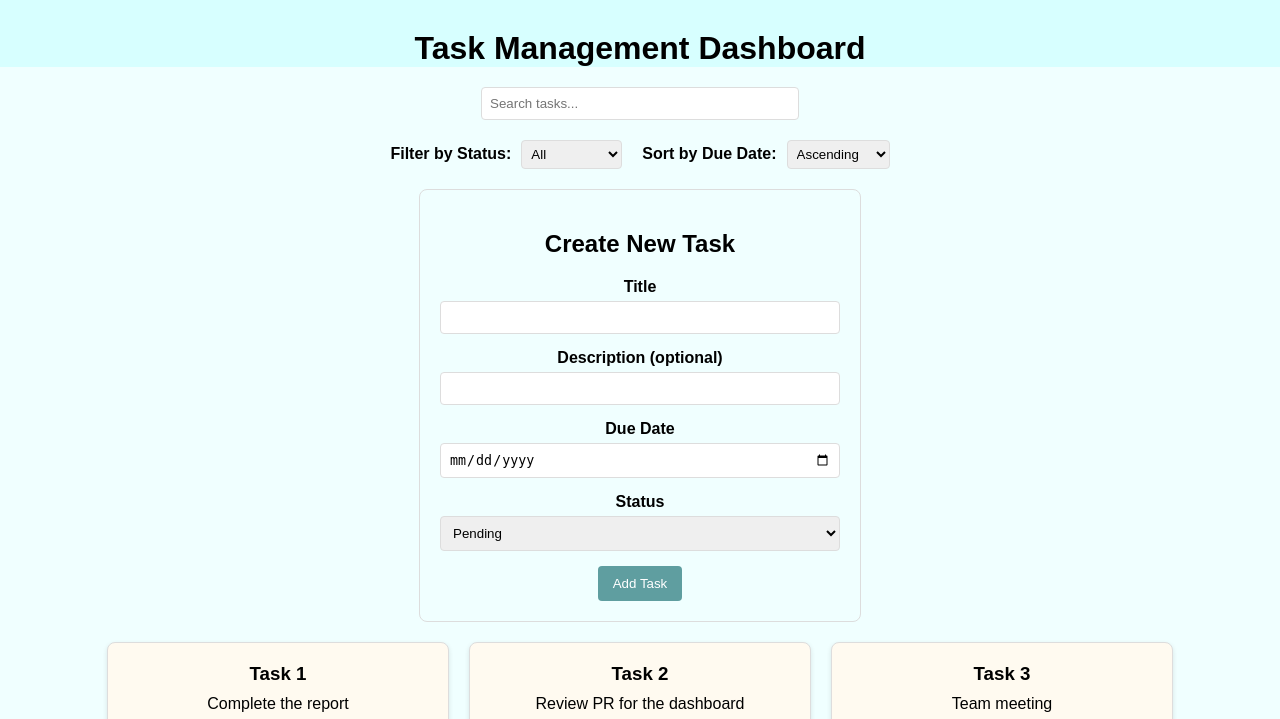
Test: searches tasks by title
The width and height of the screenshot is (1280, 719).
In the field with placeholder "Search tasks...": (640, 104) [481,87,799,120], type "Task 1"
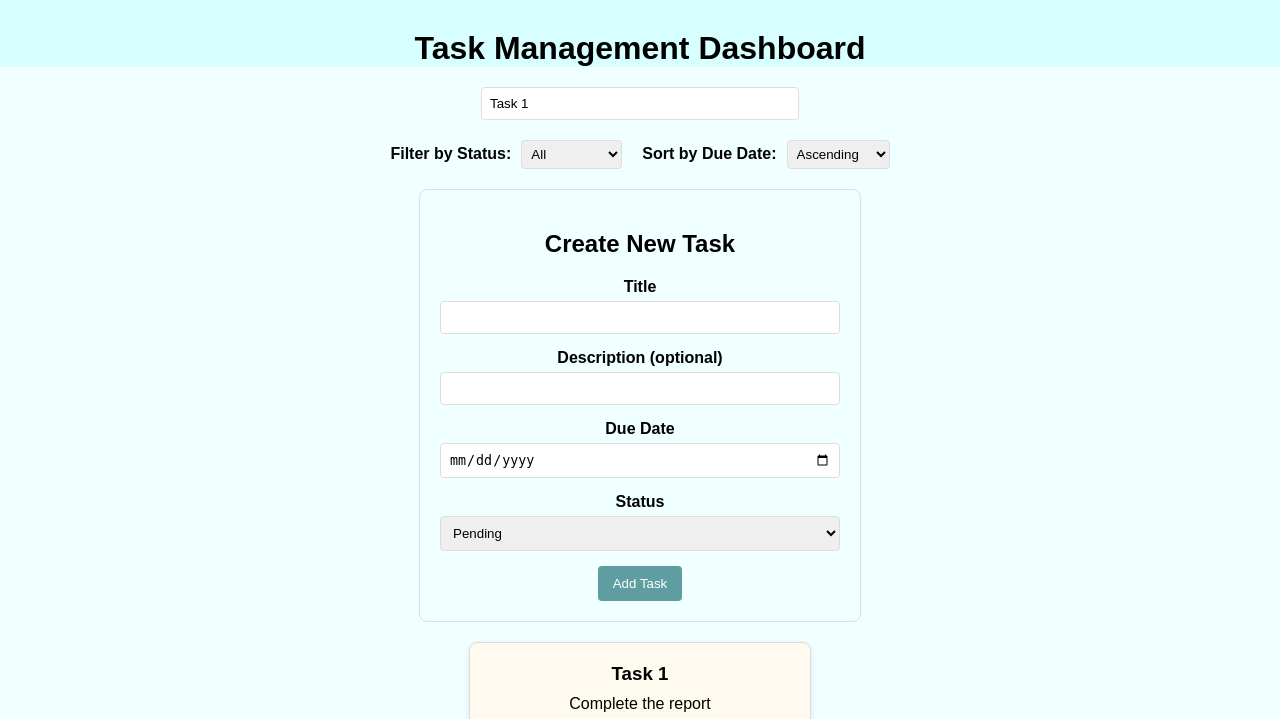
Expected: the heading "Task 1" is shown, [612,663,668,684]
Expected: the heading "Task 2" is gone
